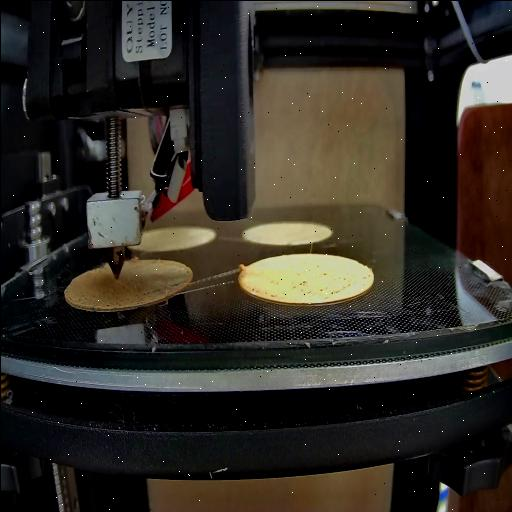under_extrusion: (290, 263, 366, 299), (77, 286, 131, 308), (143, 279, 184, 297), (248, 278, 276, 298)
